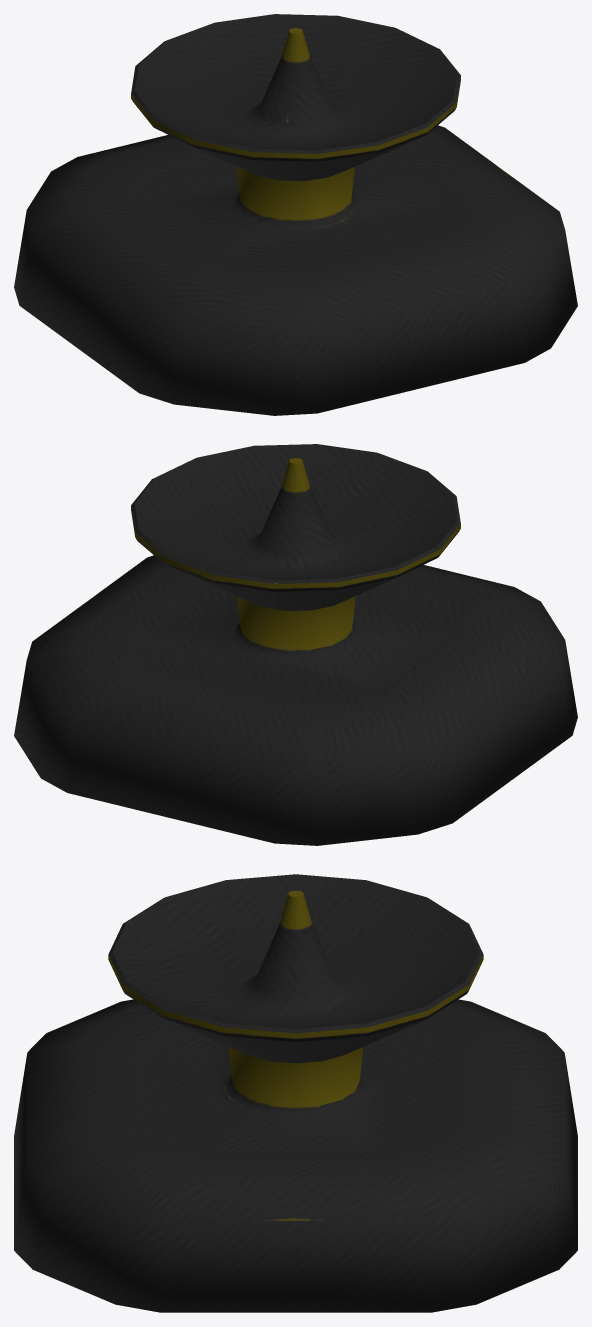
File: Laser.glb
3 renders of one model, top to bottom at view 1: azimuth 30°, elevation 25°; view 2: azimuth 150°, elevation 25°; view 3: azimuth 270°, elevation 25°, orthographic. The views are drawn at different scales.
Parts seen in each view (by area): view 1: Cube; view 2: Cube; view 3: Cube.
Boxes of the visible parts, x1=… form: Cube: x1=14, y1=14, x2=577, y2=415; Cube: x1=14, y1=444, x2=577, y2=845; Cube: x1=14, y1=874, x2=577, y2=1312.
Size of the model in its own units: 2 by 1.17 by 2.
Materials: 1 (1 with a texture image).
